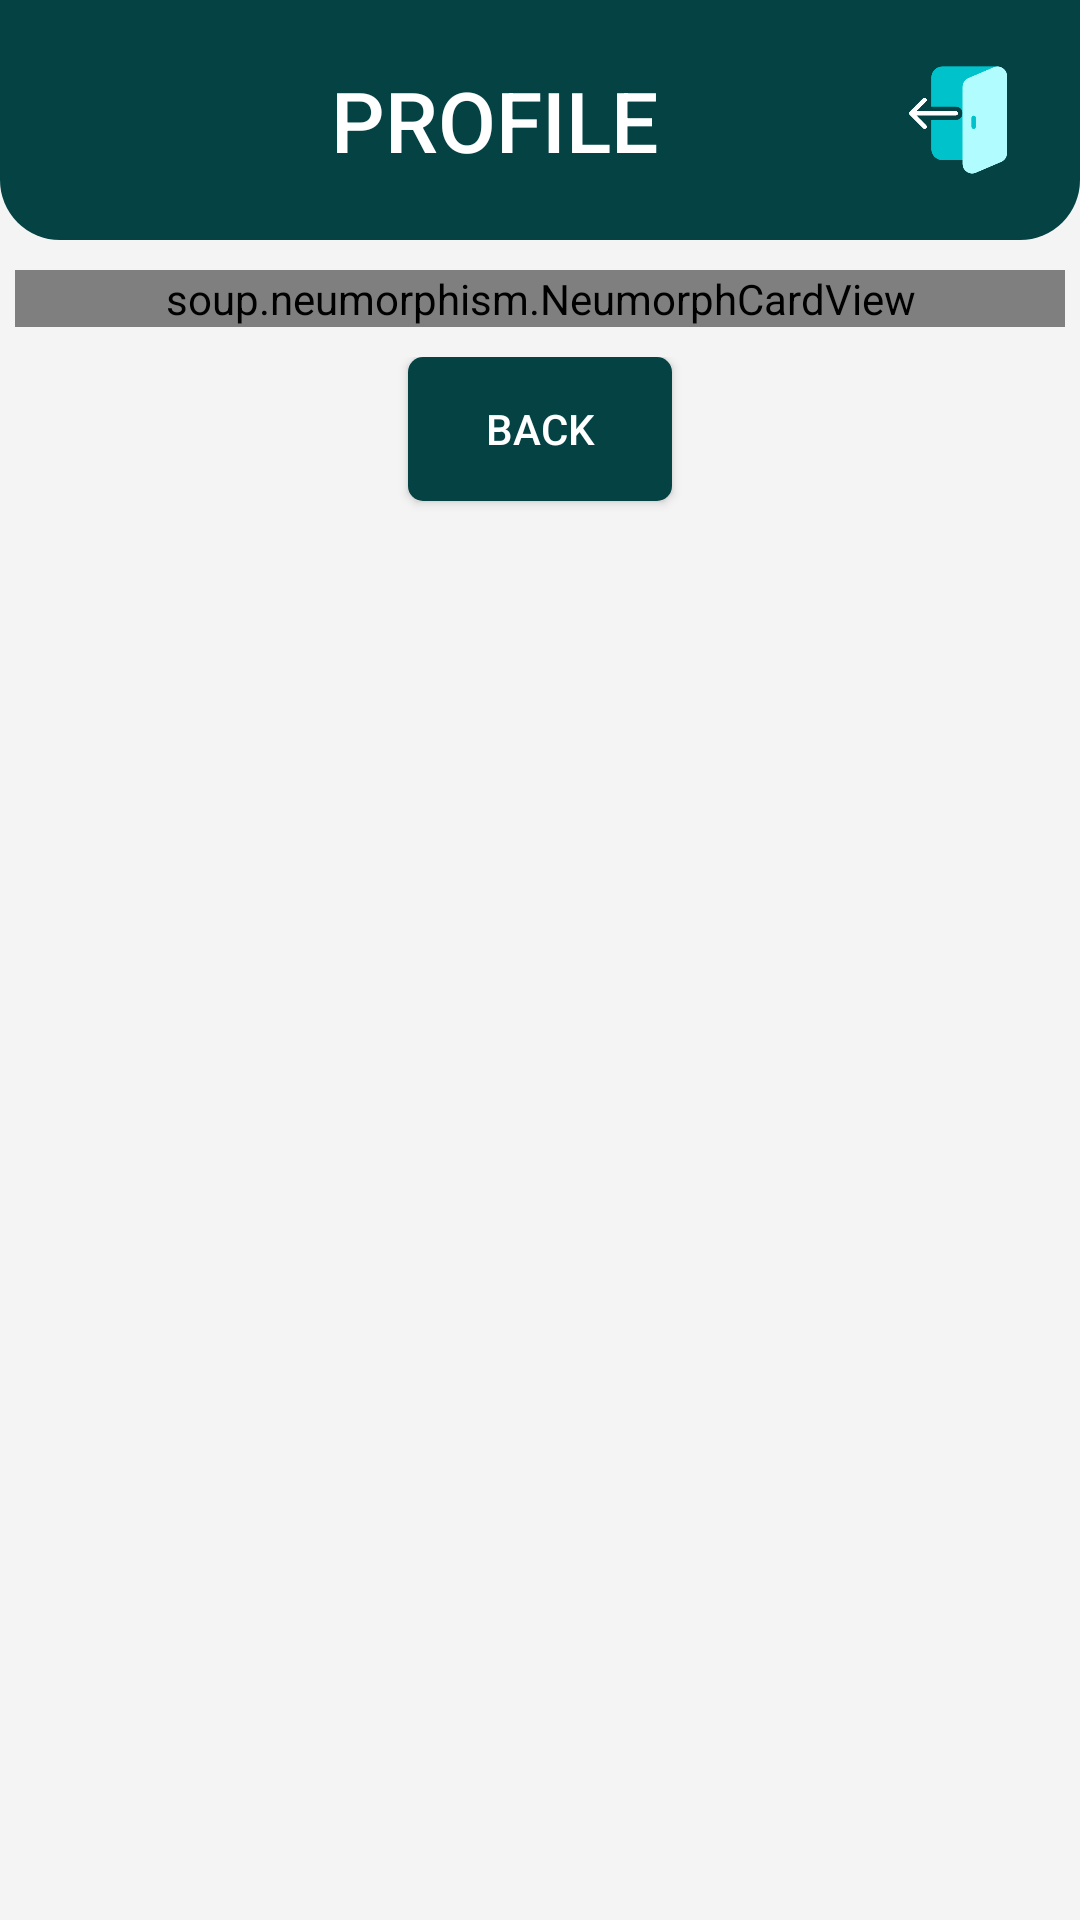

Named icons in this screenshot (1080 x 1920) and their bounding boxes, (x1, y1, x2, y2):
admlog: (909, 66, 1007, 174)
